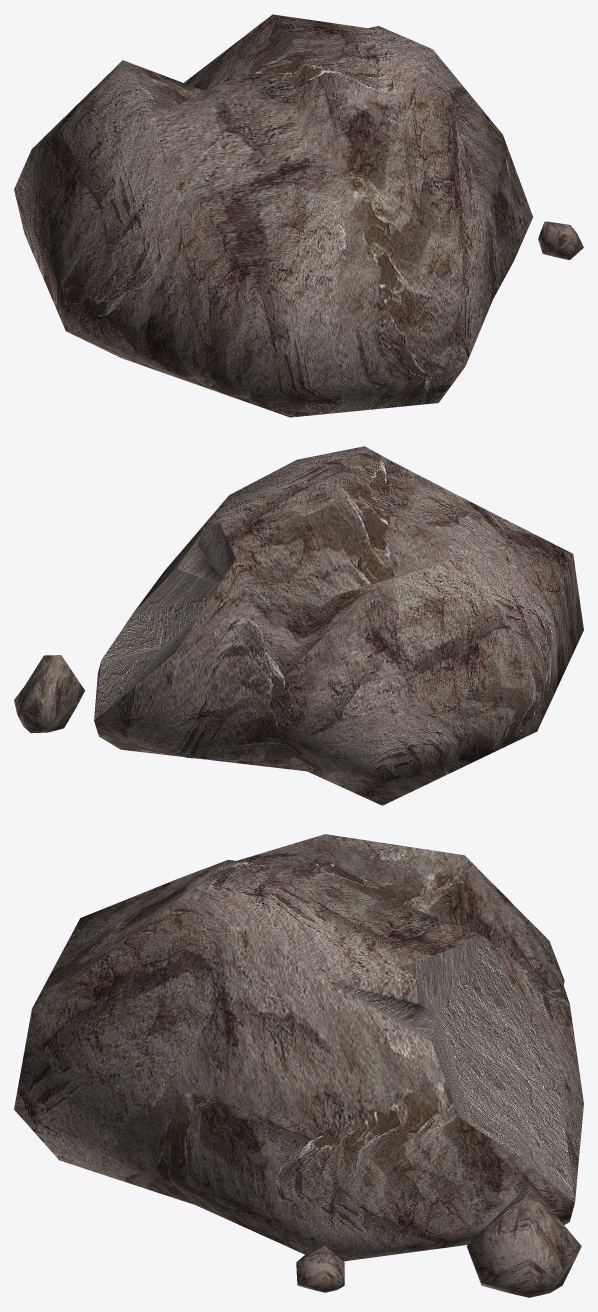
Rendered from large_boulder03.fbx.
3 views of the same model, one above another, from view 1: azimuth 30°, elevation 25°; view 2: azimuth 150°, elevation 25°; view 3: azimuth 270°, elevation 25° (orthographic). The views are drawn at different scales.
Visible parts, largest first — view 1: mesh_0; view 2: mesh_0, mesh_1; view 3: mesh_0, mesh_1.
Part boxes in pixels (x1,y1,x2,y2): mesh_0: [14, 14, 583, 417]; mesh_0: [14, 446, 583, 805]; mesh_1: [94, 524, 236, 720]; mesh_0: [14, 834, 583, 1297]; mesh_1: [326, 937, 574, 1202].
Size of the model in its own units: 682 by 337 by 606.
2 materials, 2 textured.
